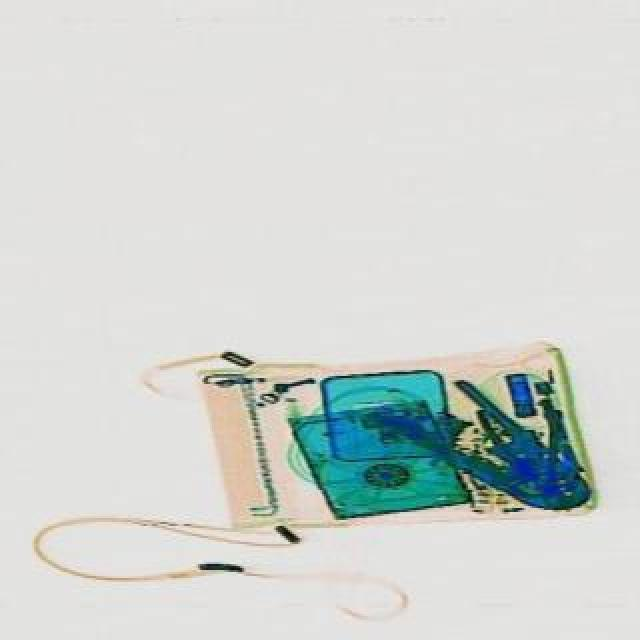wrench: (380, 358, 604, 538)
